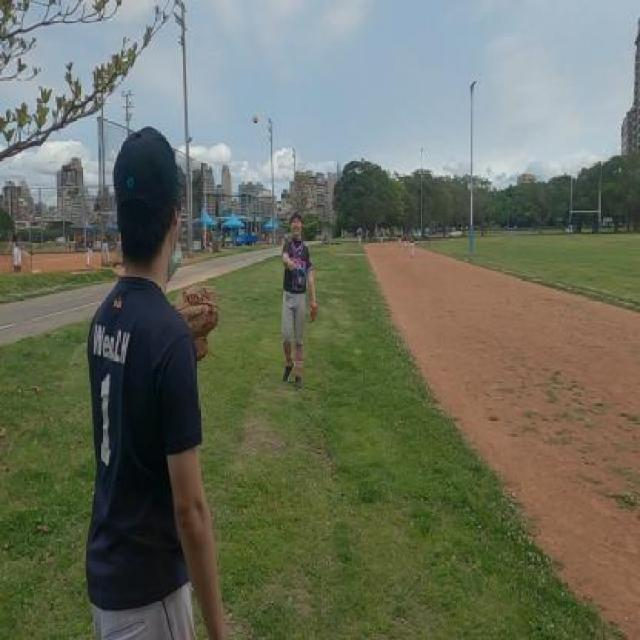baseball: (252, 113, 258, 124)
